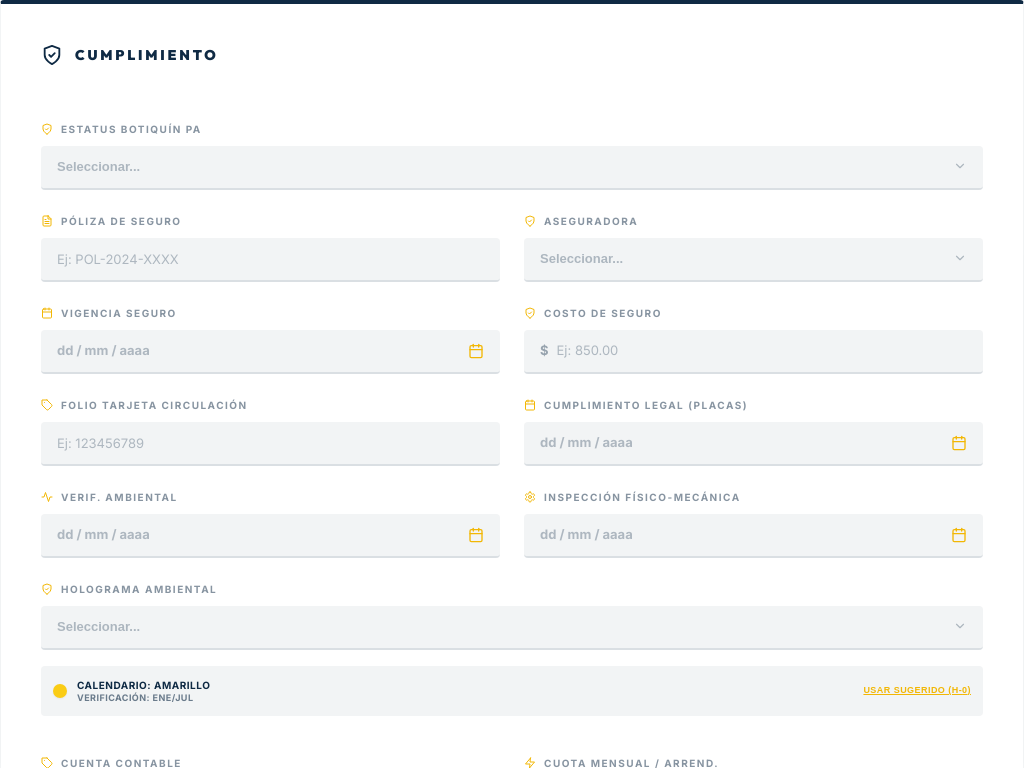
Test: ComplianceSection › renders the hologram prediction preview and applies the suggested hologram on click
Expected: the text "Calendario: Amarillo" is shown, left=77, top=678, right=210, bottom=692
What coordinates should you click on to do the following:
click the button "Usar Sugerido (H-0)"
I would click on:
 (917, 691)
Its box is left=863, top=685, right=971, bottom=697.
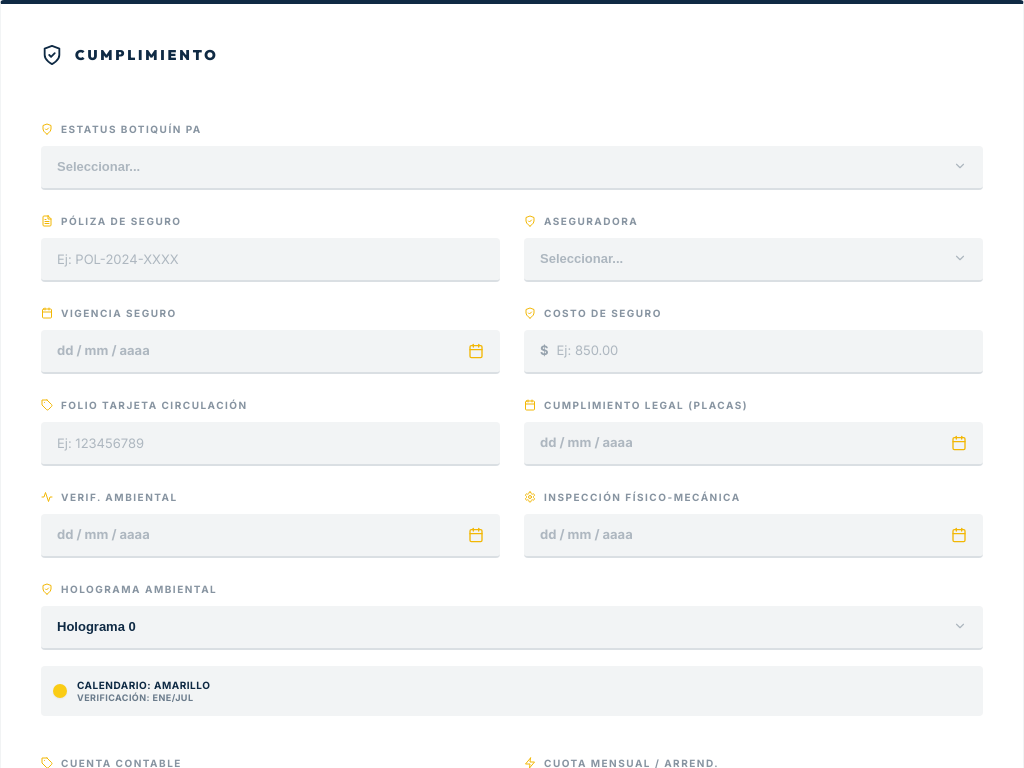
Result: the button "Usar Sugerido" is gone
